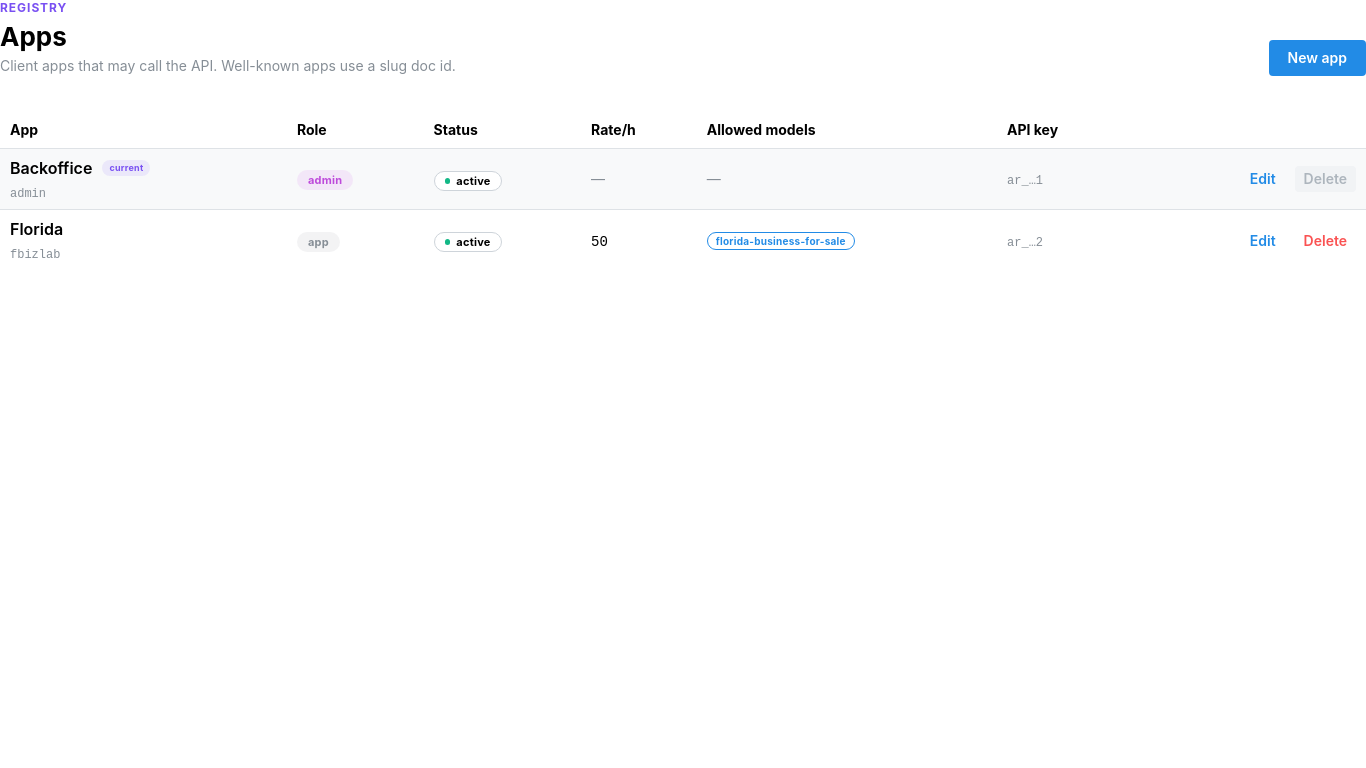
Test: the backoffice in Apps › a client app’s form keeps its limits and has no admin emails
This screenshot has width=1366, height=768.
What coordinates should you click on to do the following:
click the button "Edit" in the row of "fbizlab"
I would click on:
 (1263, 241)
Its box is [1241,228,1285,254].
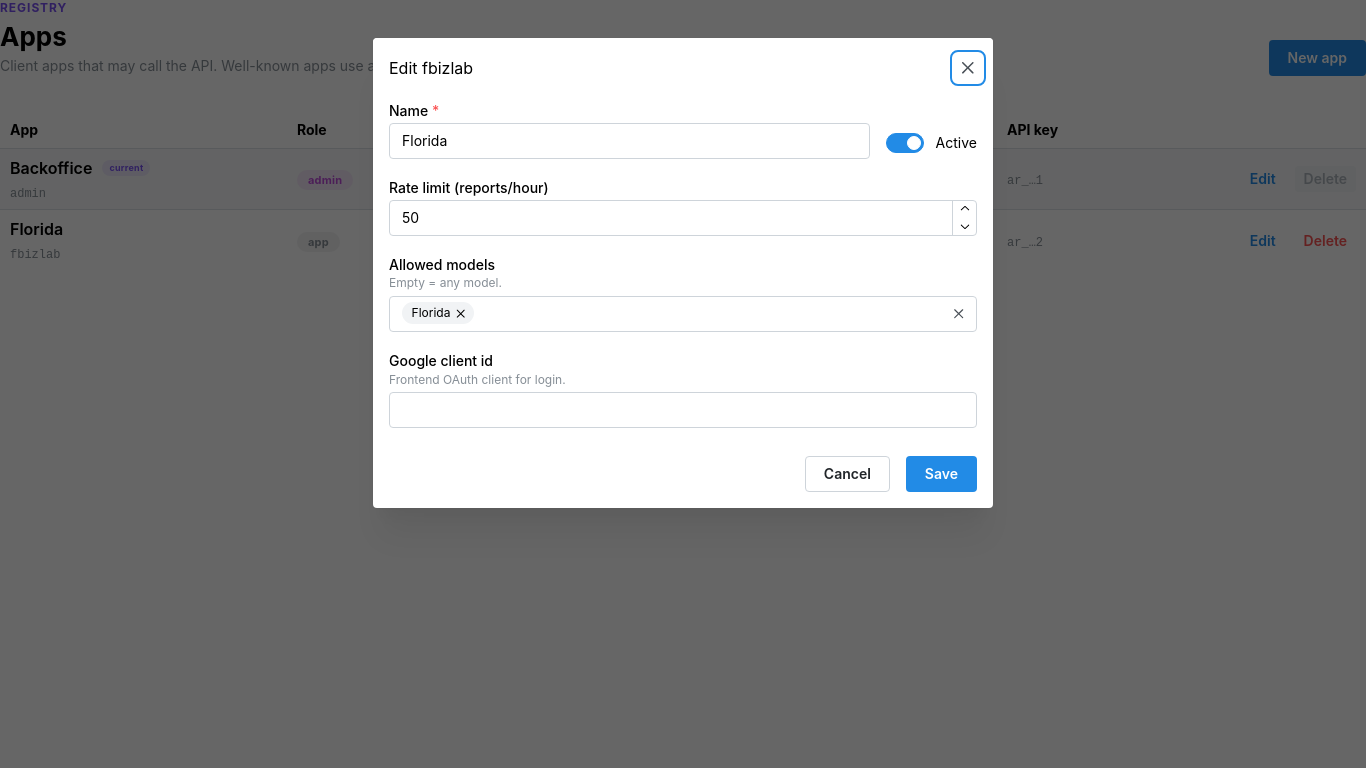
expect the field labelled "Rate limit (reports/hour)" is shown: met, box [389,200,977,236]
